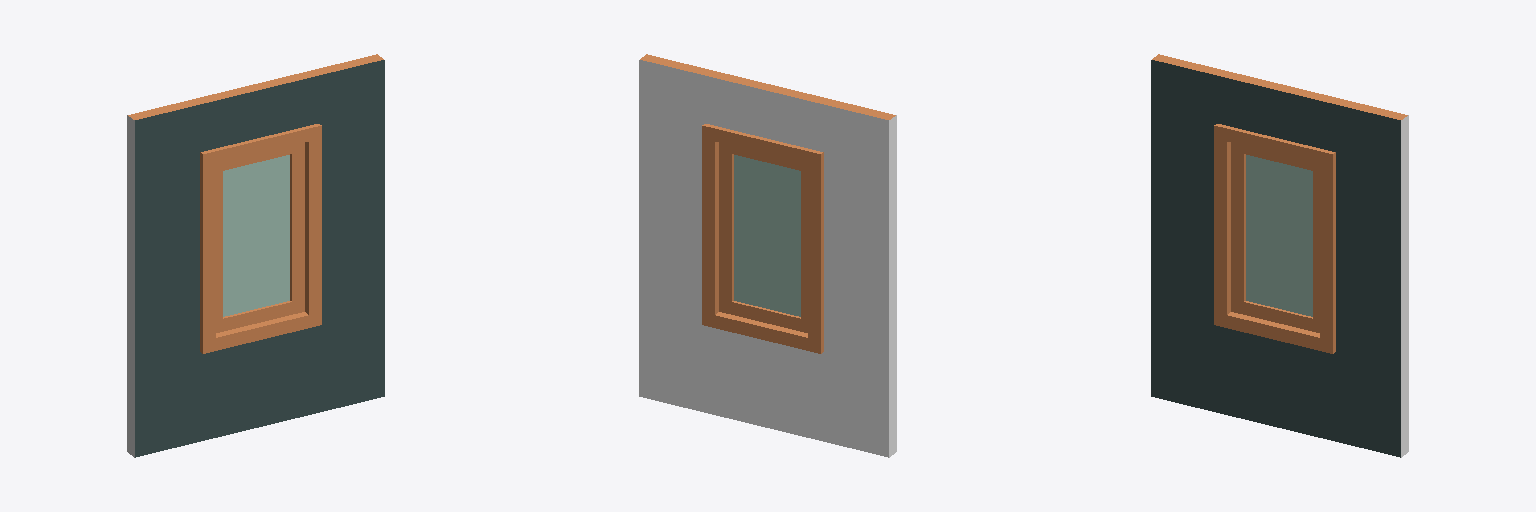
Rendered from wallWindow.obj.
The picture shows the model from 3 angles: view 1: azimuth 30°, elevation 25°; view 2: azimuth 150°, elevation 25°; view 3: azimuth 330°, elevation 25°; orthographic projection.
Parts seen in each view (by area): view 1: wallWindow, window; view 2: wallWindow, window; view 3: wallWindow, window.
Boxes of the visible parts, <box> form: wallWindow: <box>127,54,384,457</box>; window: <box>216,143,304,332</box>; wallWindow: <box>639,54,896,457</box>; window: <box>719,143,807,332</box>; wallWindow: <box>1151,54,1408,457</box>; window: <box>1231,143,1319,332</box>.
Bounding box in the file's own units: 1 × 1.29 × 0.0891.